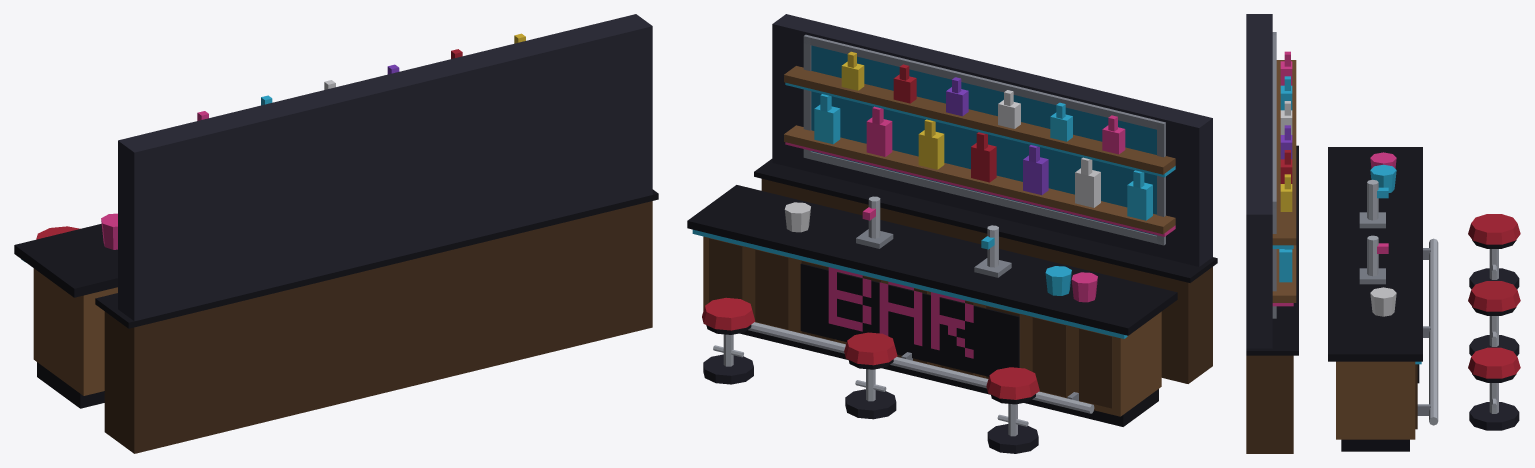
The model's file is Decor_DJStage_Bar.fbx.
3 renders of one model, left to right at view 1: azimuth 30°, elevation 25°; view 2: azimuth 150°, elevation 25°; view 3: azimuth 270°, elevation 25°, orthographic. The views are drawn at different scales.
Parts seen in each view (by area): view 1: Bar_Body; view 2: Bar_Body; view 3: Bar_Body.
Boxes of the visible parts, x1=… form: Bar_Body: x1=14, y1=14, x2=658, y2=453; Bar_Body: x1=687, y1=14, x2=1217, y2=453; Bar_Body: x1=1246, y1=14, x2=1520, y2=453.
Bounding box in the file's own units: 18.6 × 10 × 10.4.
